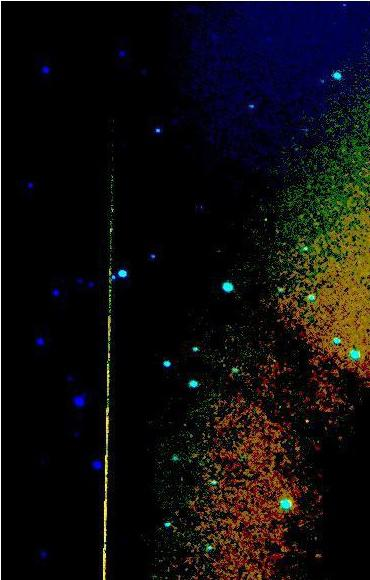star: (291, 406, 321, 436)
